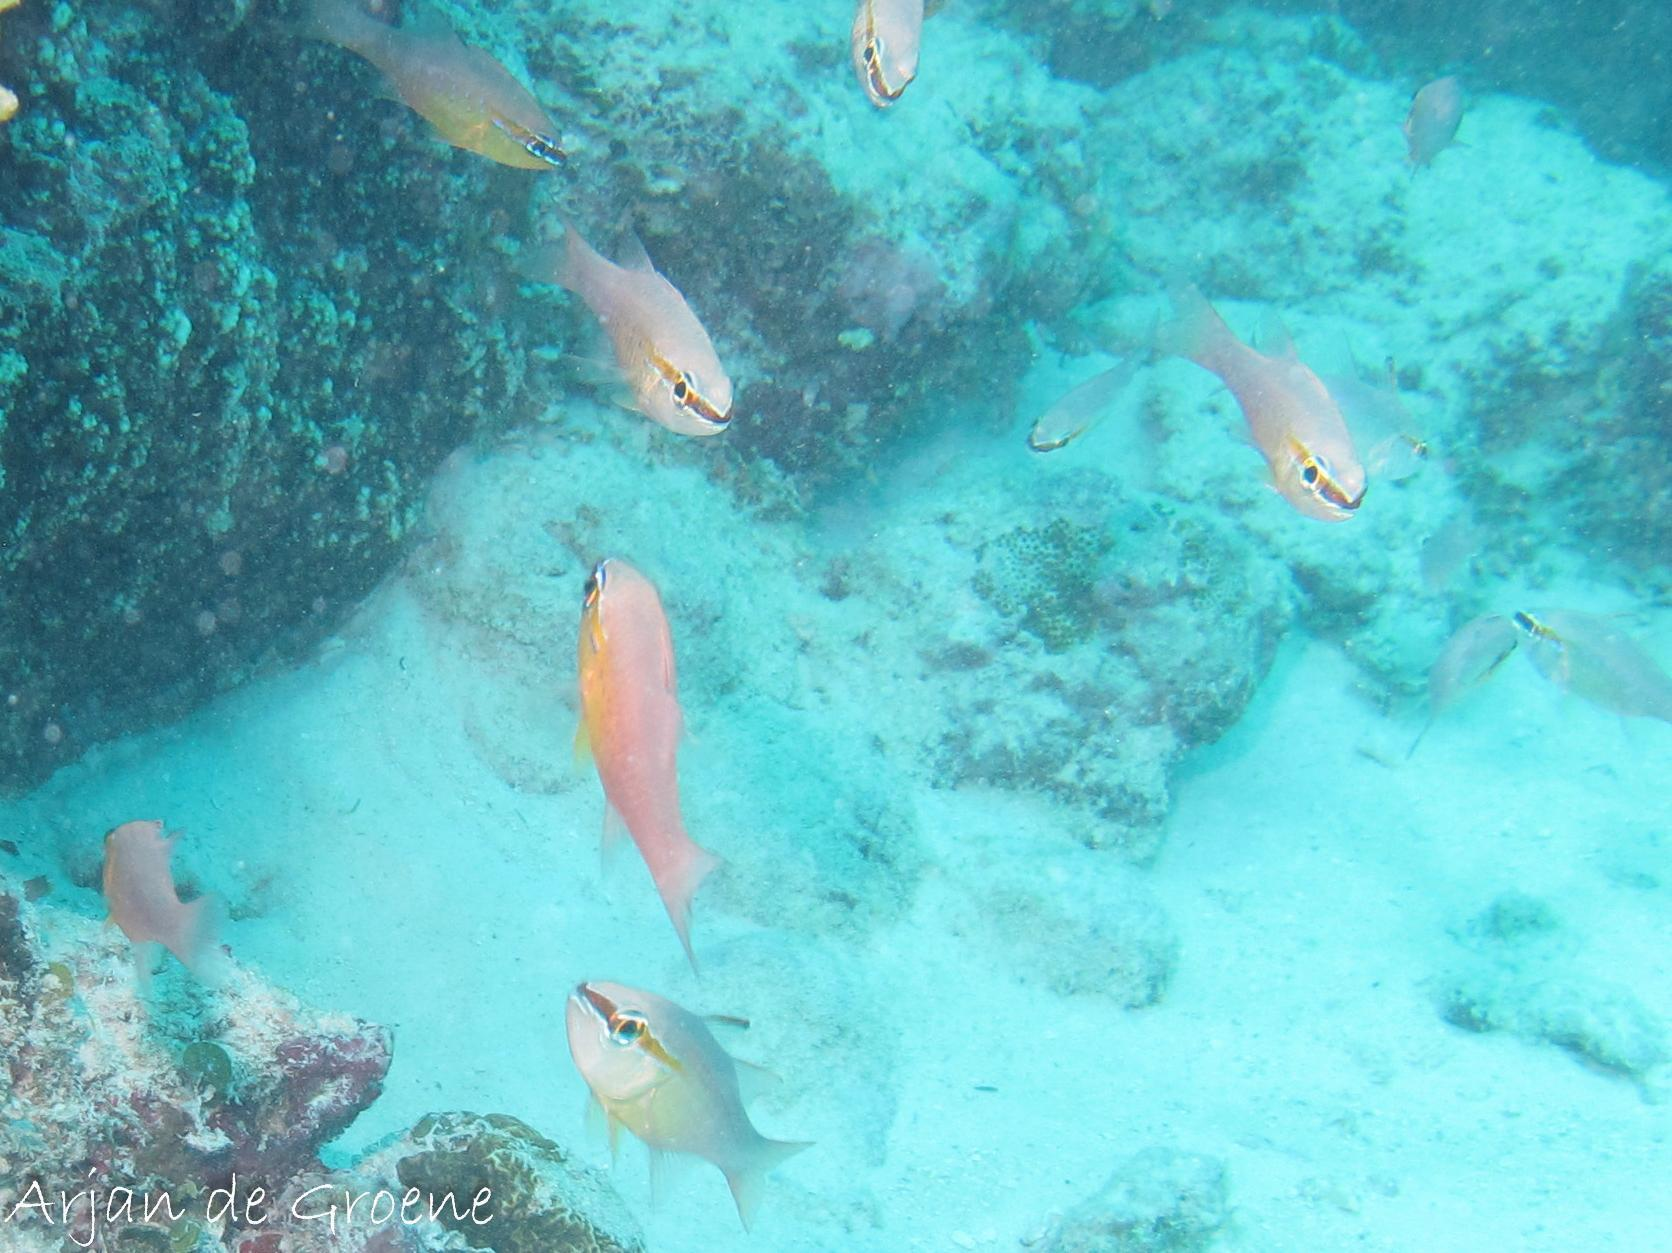Fish: (558, 530, 743, 987), (541, 961, 818, 1252), (1158, 268, 1393, 551), (288, 0, 571, 180), (543, 205, 752, 449), (83, 811, 239, 994)
